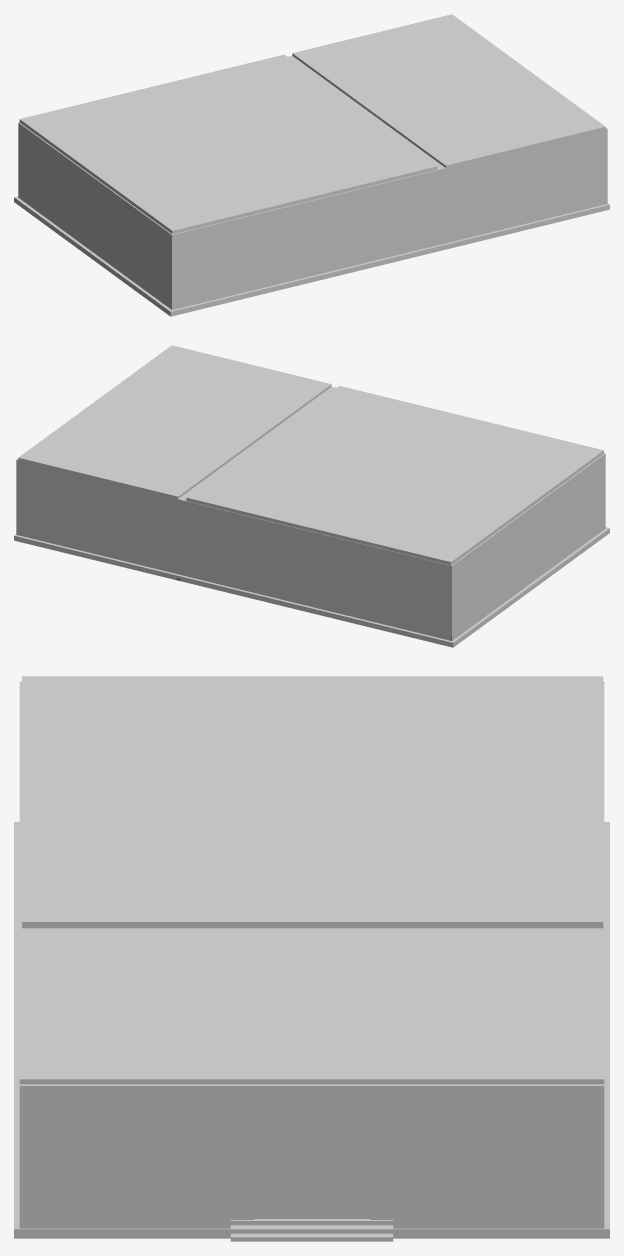
File: vr_art_gallery_2024.glb
3 views of the same model, one above another, from view 1: azimuth 30°, elevation 25°; view 2: azimuth 150°, elevation 25°; view 3: azimuth 270°, elevation 25° (orthographic). The views are drawn at different scales.
Parts seen in each view (by area): view 1: Art Gallery; view 2: Art Gallery; view 3: Art Gallery.
Part boxes in pixels (x1,y1,x2,y2): Art Gallery: (14,14,609,316); Art Gallery: (14,345,609,647); Art Gallery: (14,676,609,1241).
Size of the model in its own units: 30.28 by 5.38 by 18.36.
Materials: 12 (2 with a texture image).
